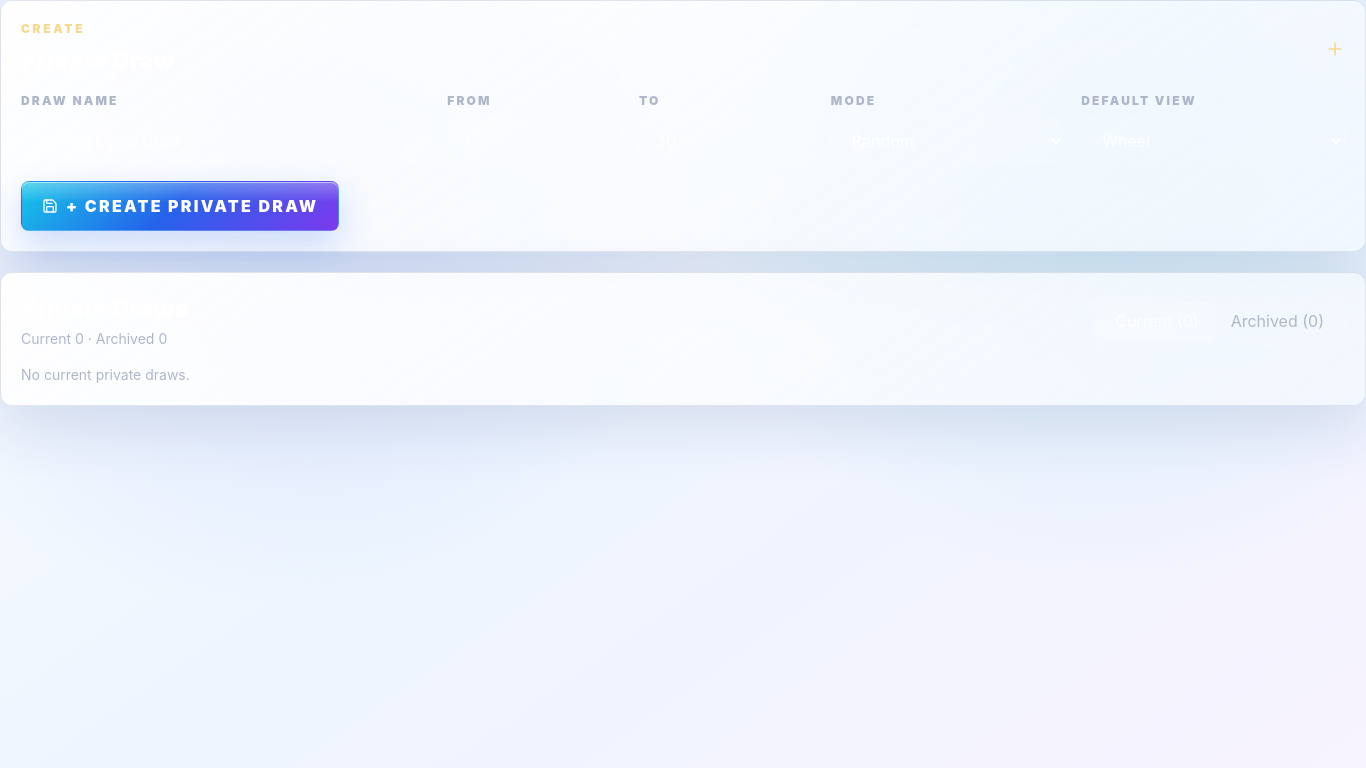
it: admin feedback banners › creates private draws with fallback success feedback when the server message is empty
What coordinates should you click on to do the following:
click the button "+ CREATE PRIVATE DRAW"
I would click on:
 (180, 206)
Its box is [21,181,339,231].
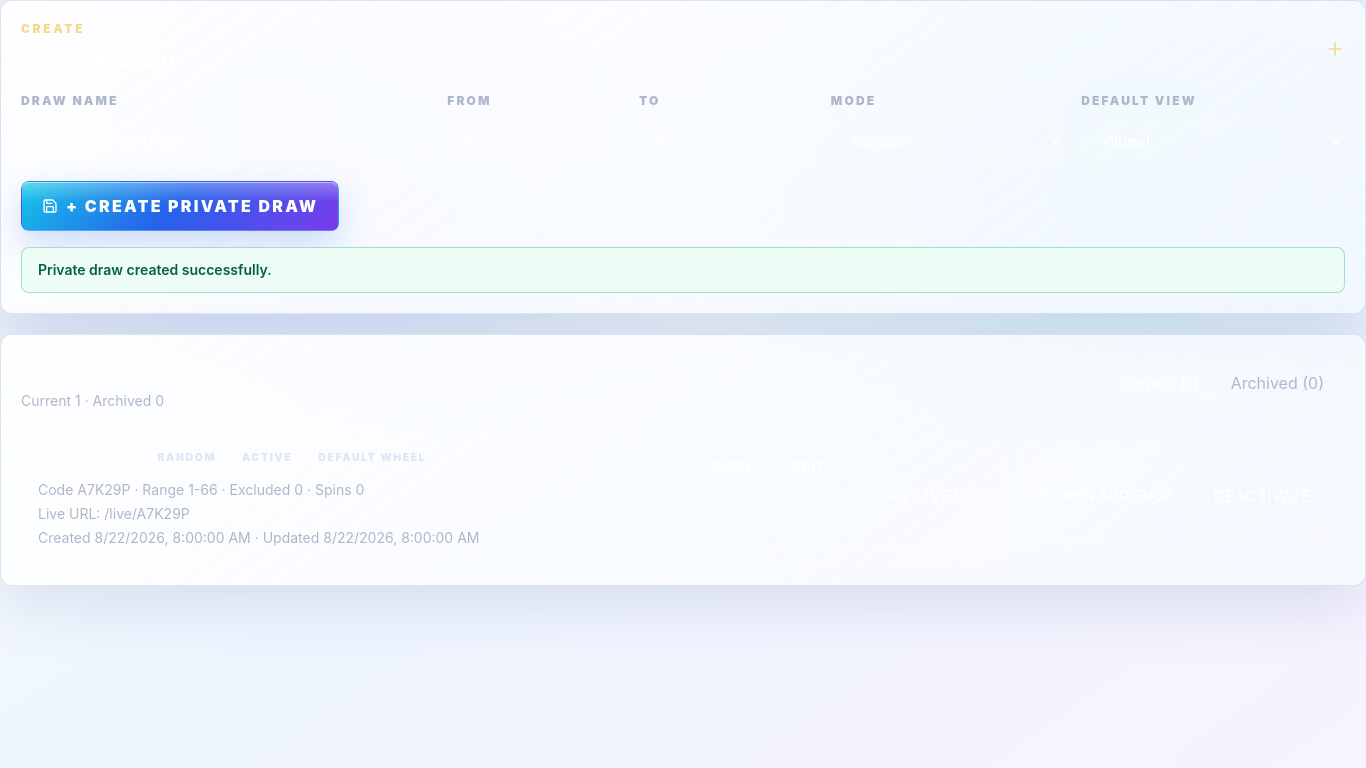
Now the text "Private draw created successfully." is shown, box [21,247,1345,293]
